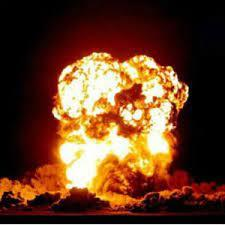fire: (46, 46, 197, 200)
